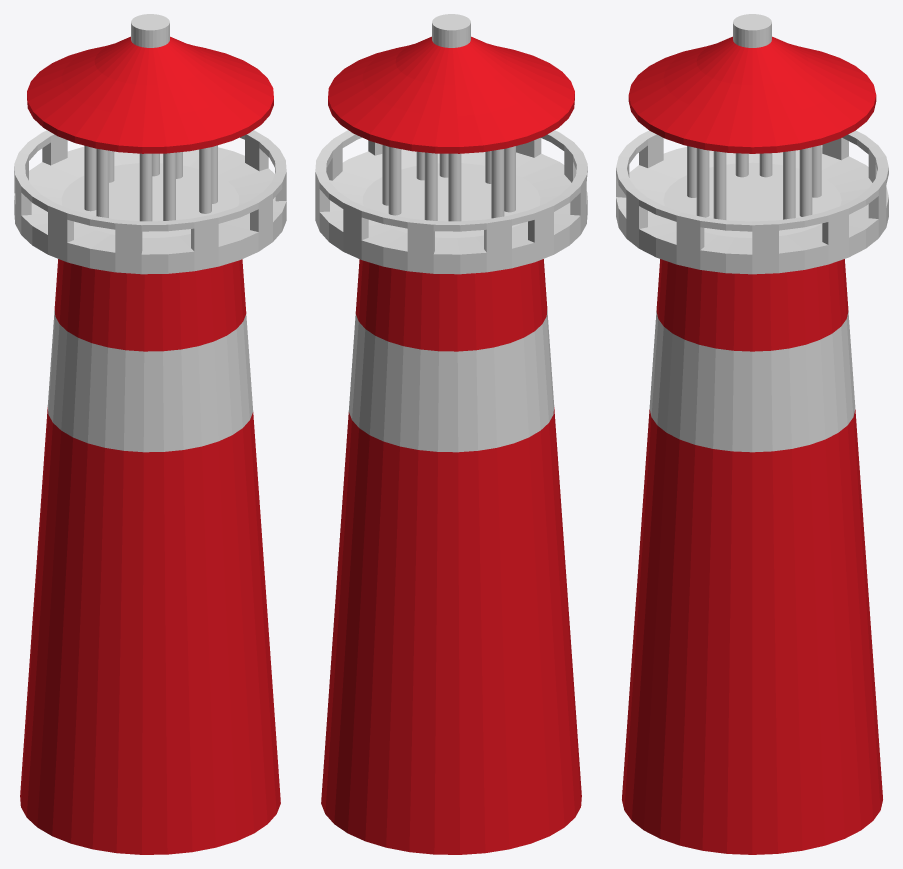
File: Lighthouse.fbx
3 views of the same model, side by side, from view 1: azimuth 30°, elevation 25°; view 2: azimuth 150°, elevation 25°; view 3: azimuth 270°, elevation 25° (orthographic).
Parts seen in each view (by area): view 1: Cylinder.001, Cylinder.002; view 2: Cylinder.001, Cylinder.002; view 3: Cylinder.001, Cylinder.002.
Boxes of the visible parts, box(x1,y1,x2,y2) form: Cylinder.001: box(14, 14, 286, 854); Cylinder.002: box(84, 145, 217, 221); Cylinder.001: box(315, 14, 587, 854); Cylinder.002: box(382, 145, 515, 221); Cylinder.001: box(616, 14, 888, 854); Cylinder.002: box(687, 145, 821, 219).
Size of the model in its own units: 209 by 656 by 209.
